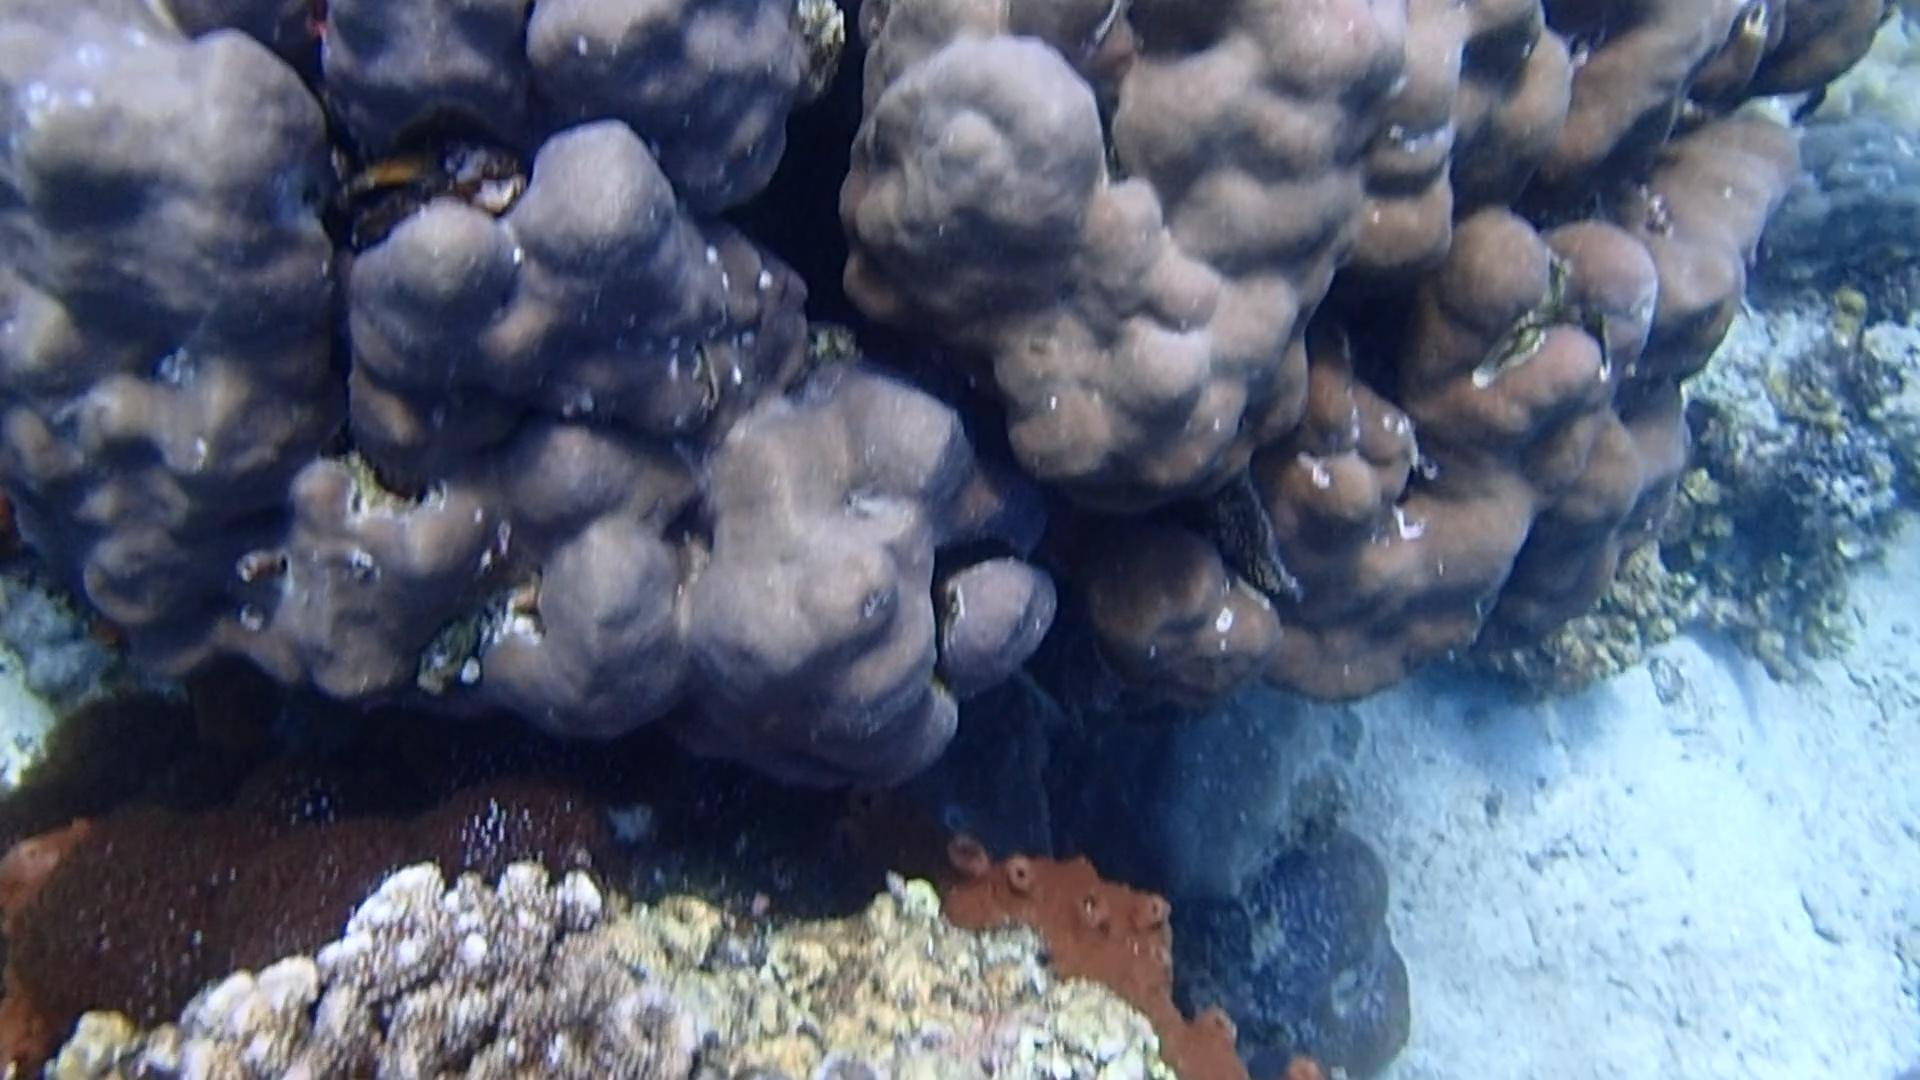Dark Fish: (1783, 80, 1838, 127)
